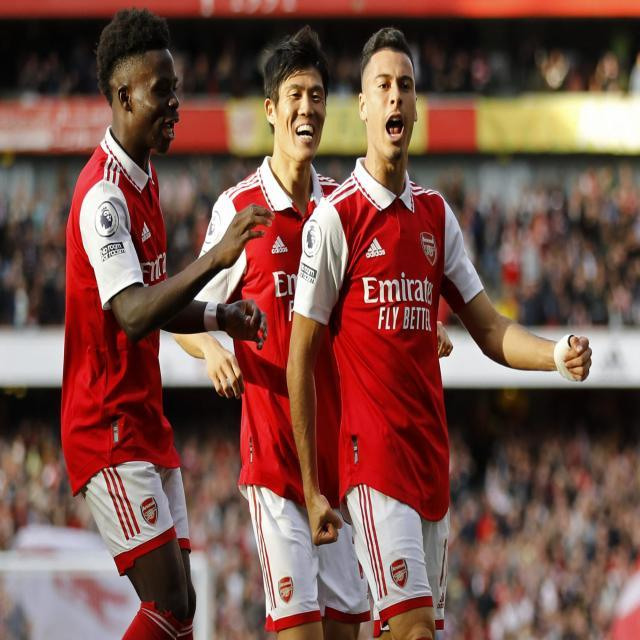Adidas: (365, 236, 386, 260), (272, 235, 288, 255), (140, 220, 152, 244), (438, 590, 446, 612)
Emirates: (361, 273, 433, 308), (138, 253, 168, 285), (270, 267, 298, 298)
